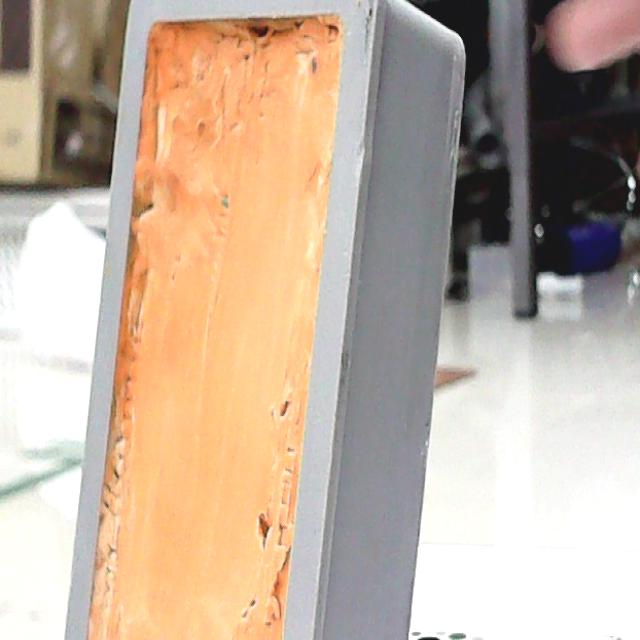block: (66, 0, 465, 640)
